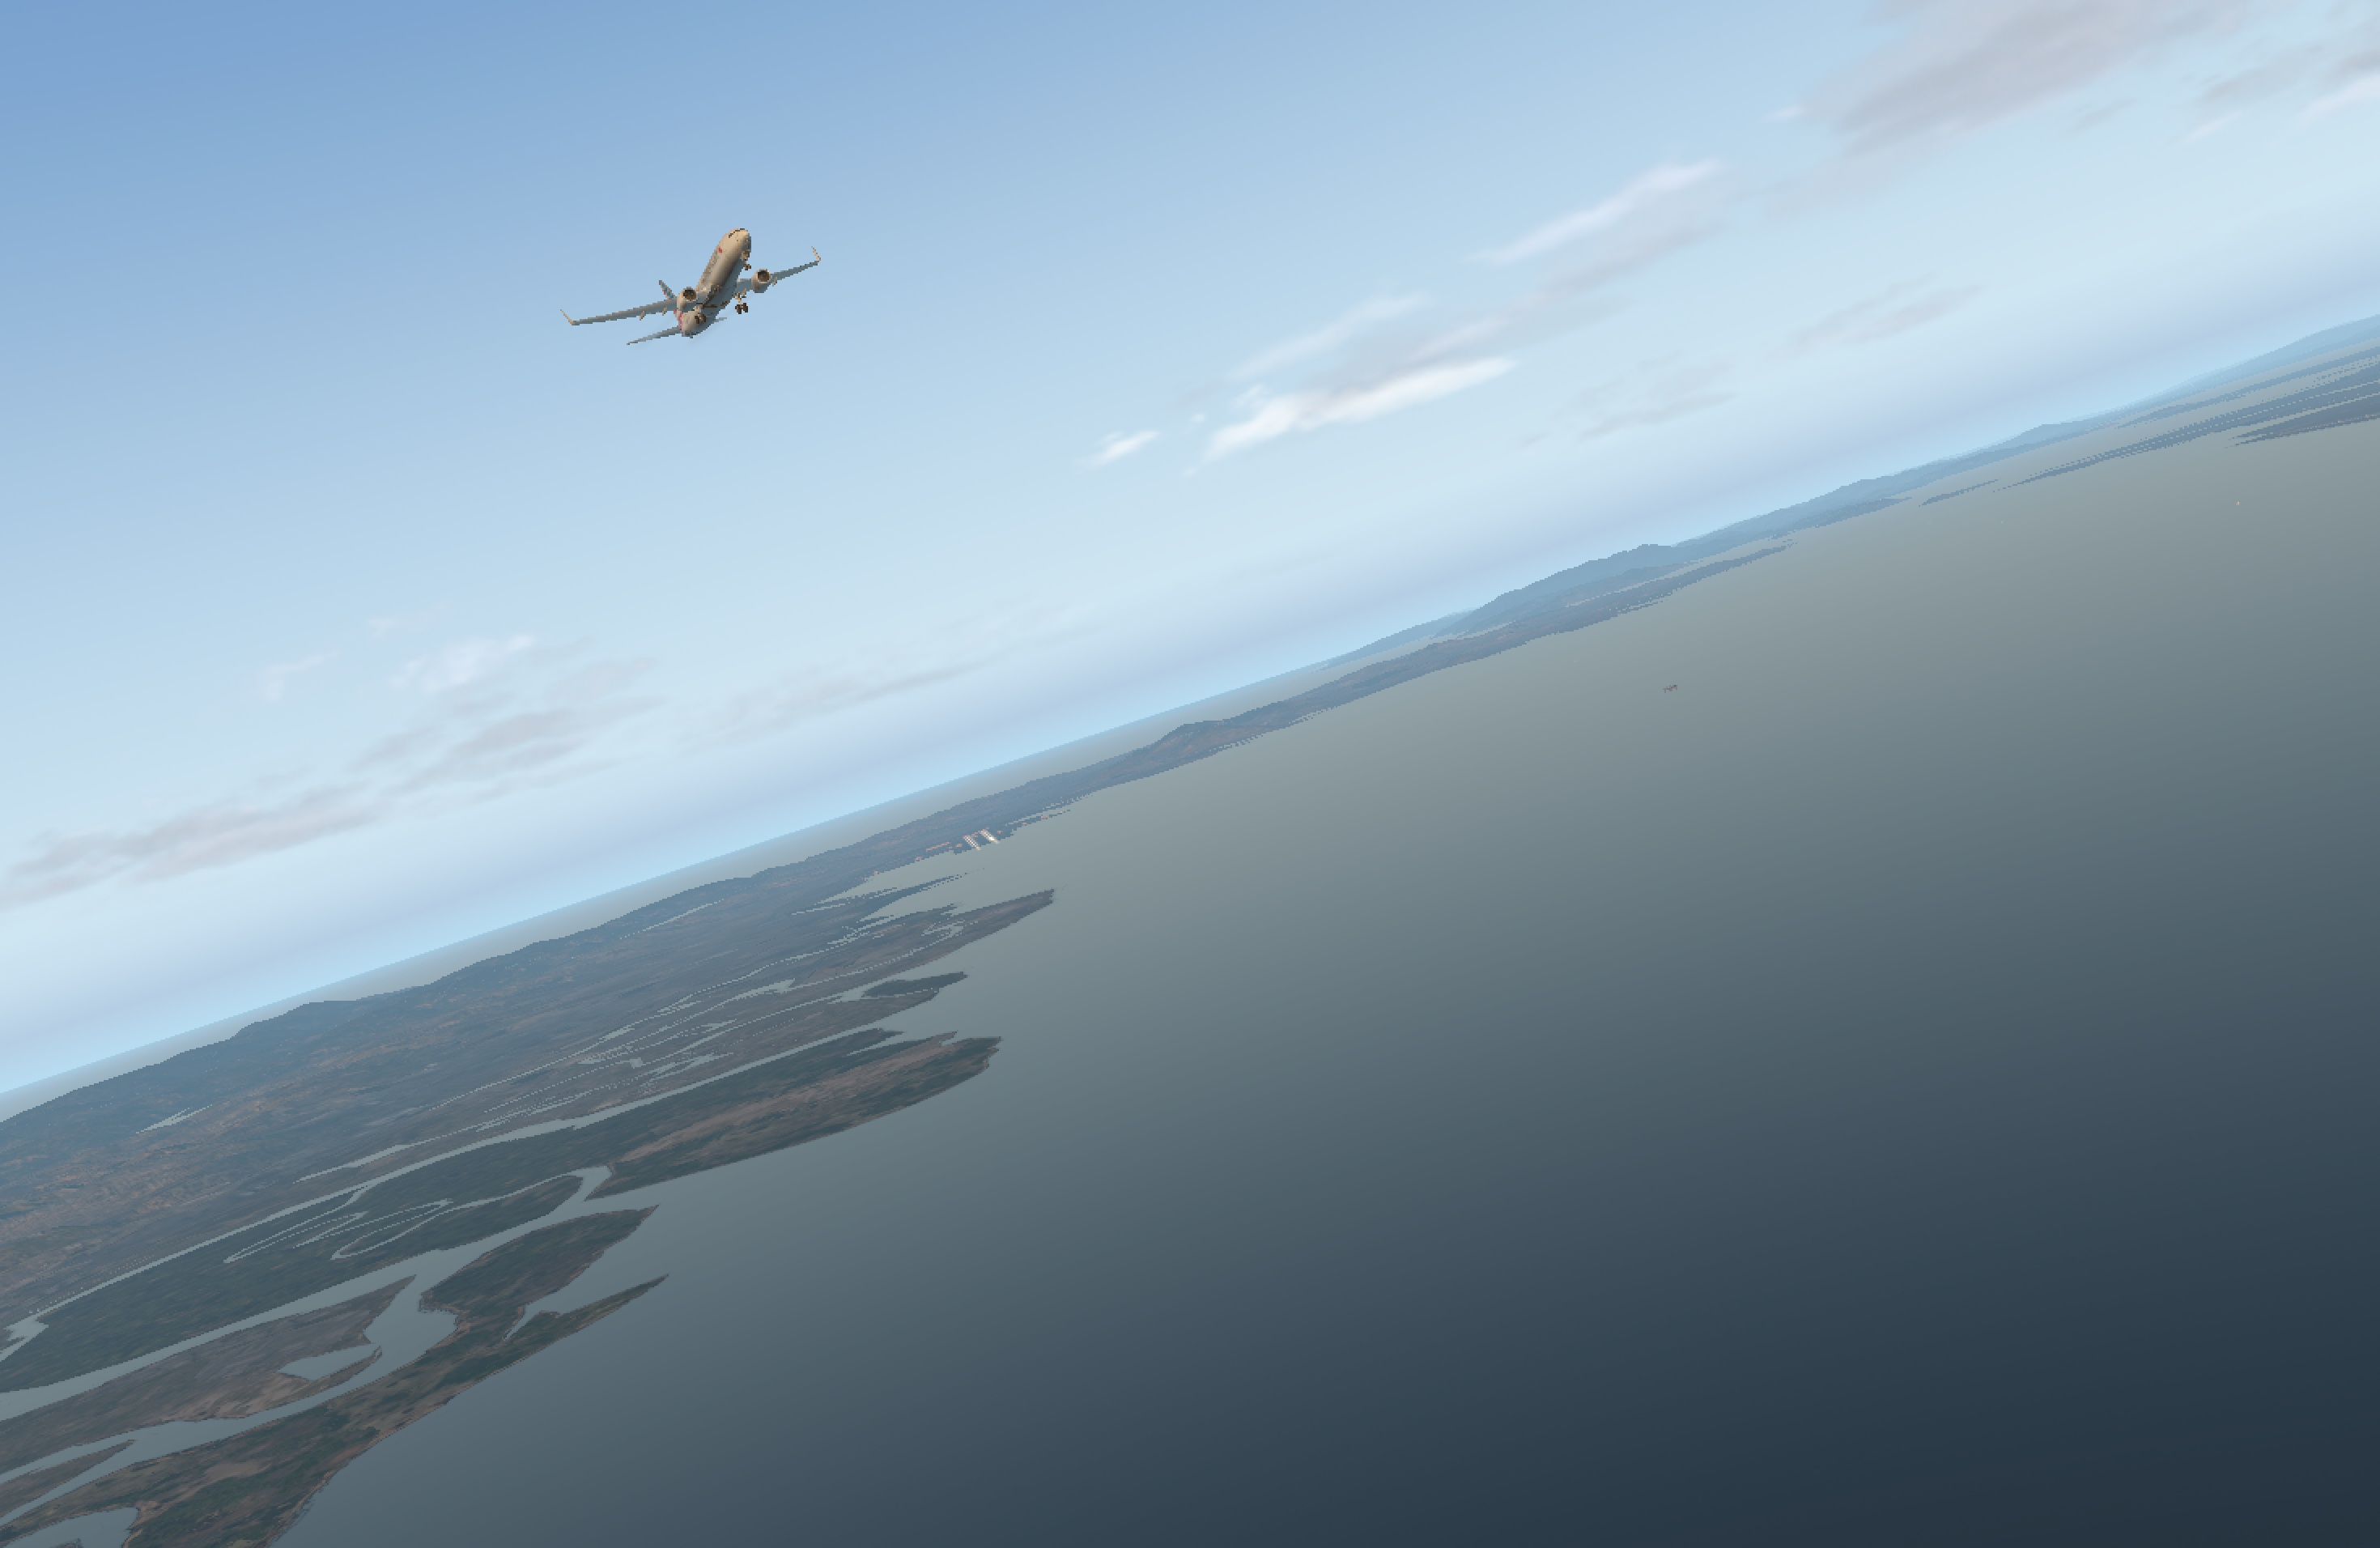aircraft: (569, 236, 864, 347)
